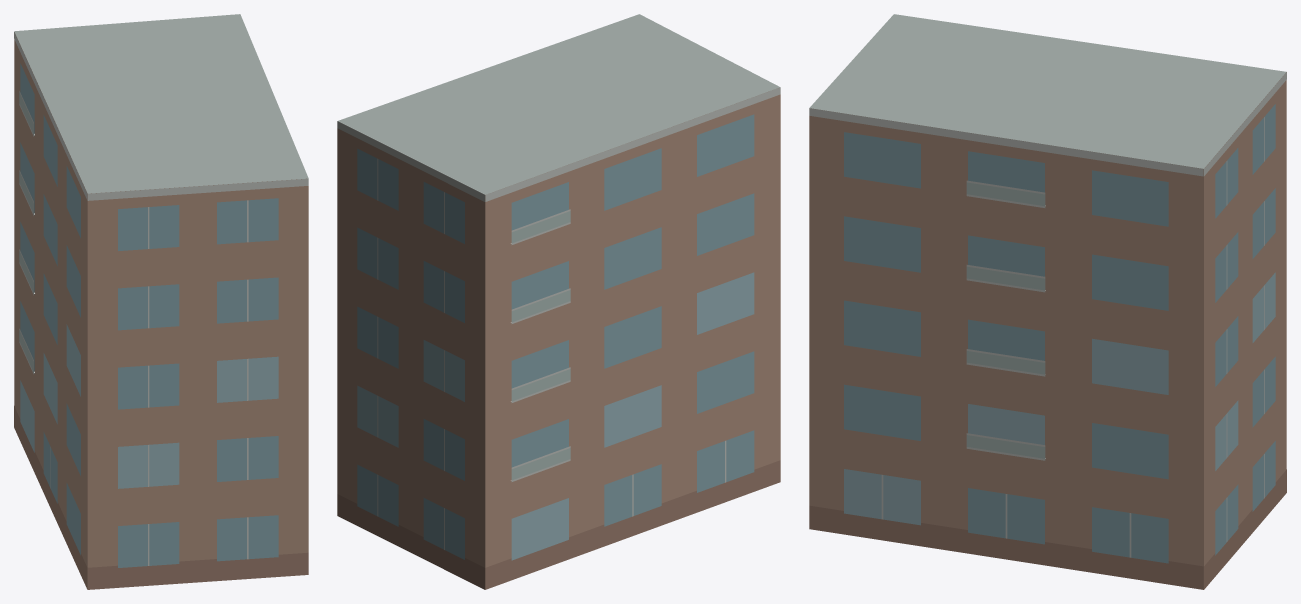
File: survey-upis-32892586.glb
3 views of the same model, side by side, from view 1: azimuth 30°, elevation 25°; view 2: azimuth 150°, elevation 25°; view 3: azimuth 270°, elevation 25° (orthographic). The views are drawn at different scales.
Parts seen in each view (by area): view 1: survey-upis-32892586.tmp; view 2: survey-upis-32892586.tmp; view 3: survey-upis-32892586.tmp.
Boxes of the visible parts, bbox=[...] form: survey-upis-32892586.tmp: bbox=[14, 14, 308, 589]; survey-upis-32892586.tmp: bbox=[337, 14, 780, 589]; survey-upis-32892586.tmp: bbox=[809, 14, 1286, 589].
Size of the model in its own units: 10.54 by 13.35 by 13.73.
